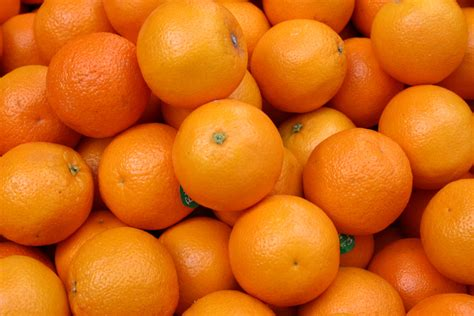orange: (133, 1, 252, 109), (227, 193, 340, 306), (301, 128, 414, 238), (173, 96, 285, 206), (1, 139, 98, 248)
